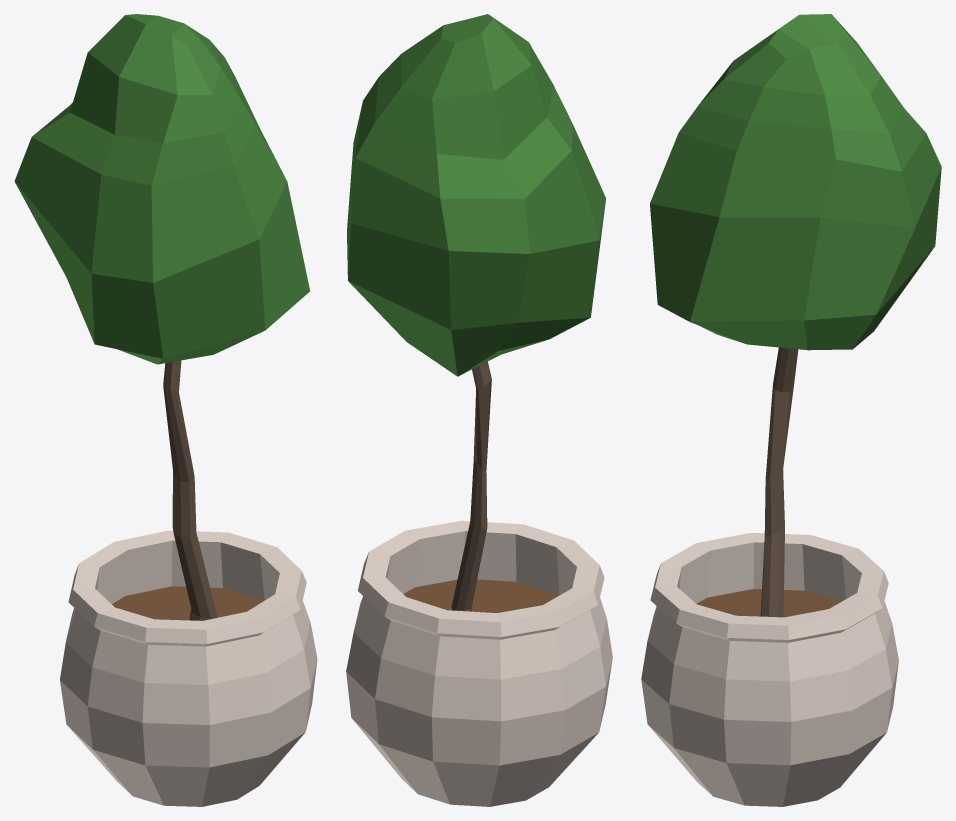
The model's file is Tree_2.fbx.
3 renders of one model, left to right at view 1: azimuth 30°, elevation 25°; view 2: azimuth 150°, elevation 25°; view 3: azimuth 270°, elevation 25°, orthographic. The views are drawn at different scales.
Parts seen in each view (by area): view 1: Tree_2; view 2: Tree_2; view 3: Tree_2.
Boxes of the visible parts, left/top/right/bottom form: Tree_2: left=14, top=14, right=317, bottom=806; Tree_2: left=346, top=14, right=612, bottom=806; Tree_2: left=641, top=14, right=941, bottom=806.
Bounding box in the file's own units: 63.43 × 73.97 × 203.
